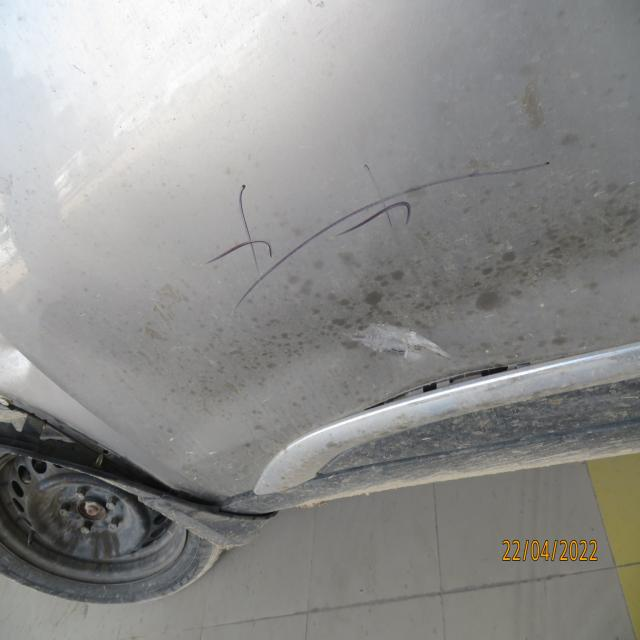damage: (351, 344, 539, 440)
